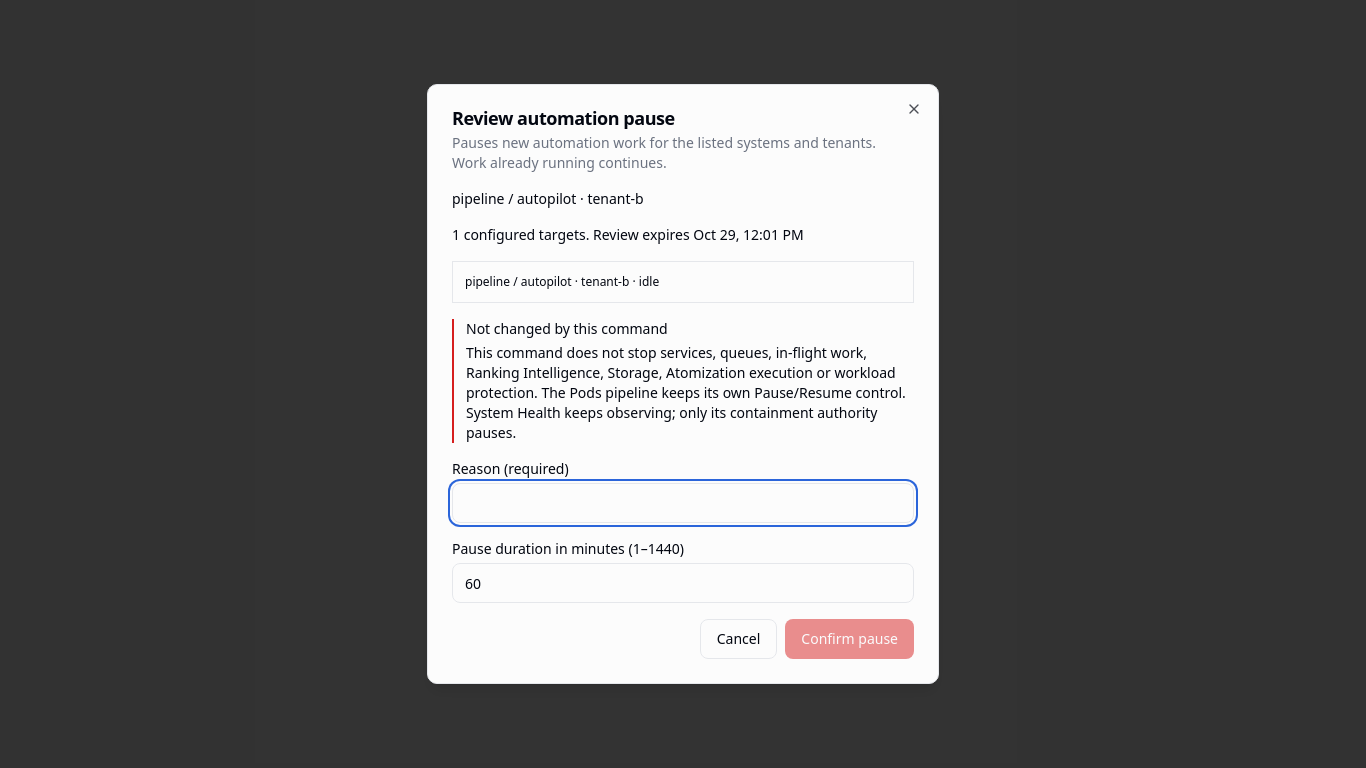
requires explicit scope review, reason and valid TTL before pause
The width and height of the screenshot is (1366, 768).
Later steps or results of the test are not shown.
Check: the dialog shows "tenant-b", box [581, 273, 629, 290]
Check: the dialog shows "This command does not stop services, queues, in-flight work", box [466, 343, 906, 442]
Type "Deploy" into the field named "Pause reason".
click(683, 503); type("Deploy")  # box [452, 483, 914, 523]
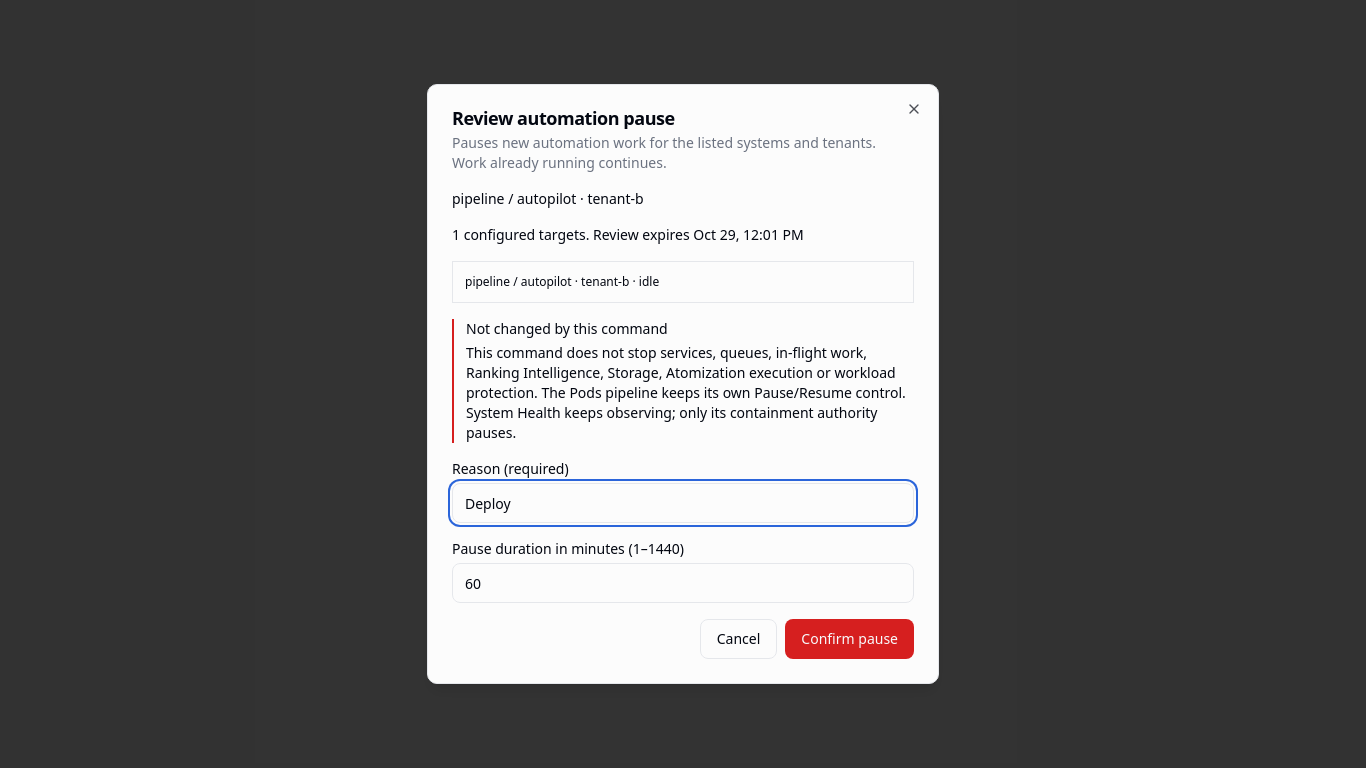
Check: the button "Confirm pause" is enabled, box [785, 619, 914, 659]
Replace the text in the number field labelled "Pause duration in minutes" with "0" at coordinates (683, 583), box [452, 563, 914, 603]
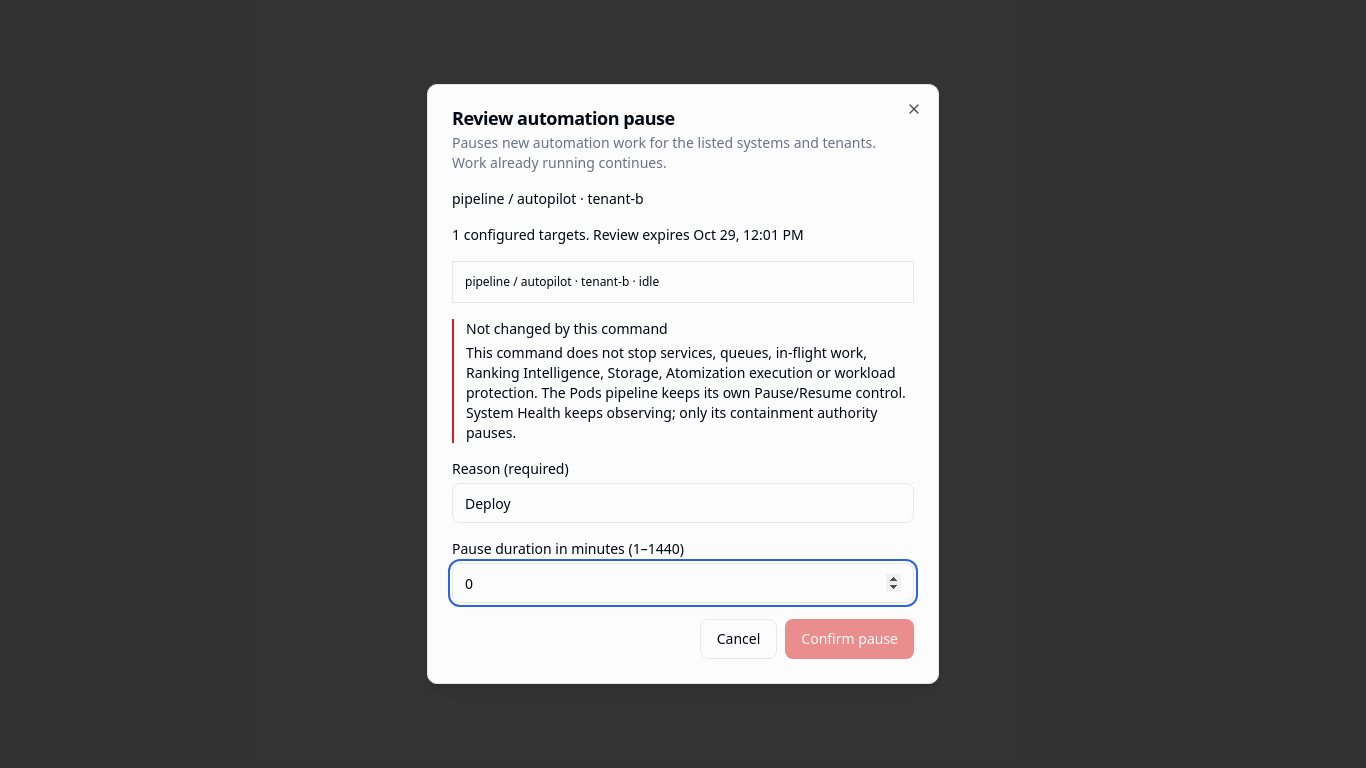
Check: the button "Confirm pause" is disabled, box [785, 619, 914, 659]
Replace the text in the number field labelled "Pause duration in minutes" with "60" at coordinates (683, 583), box [452, 563, 914, 603]
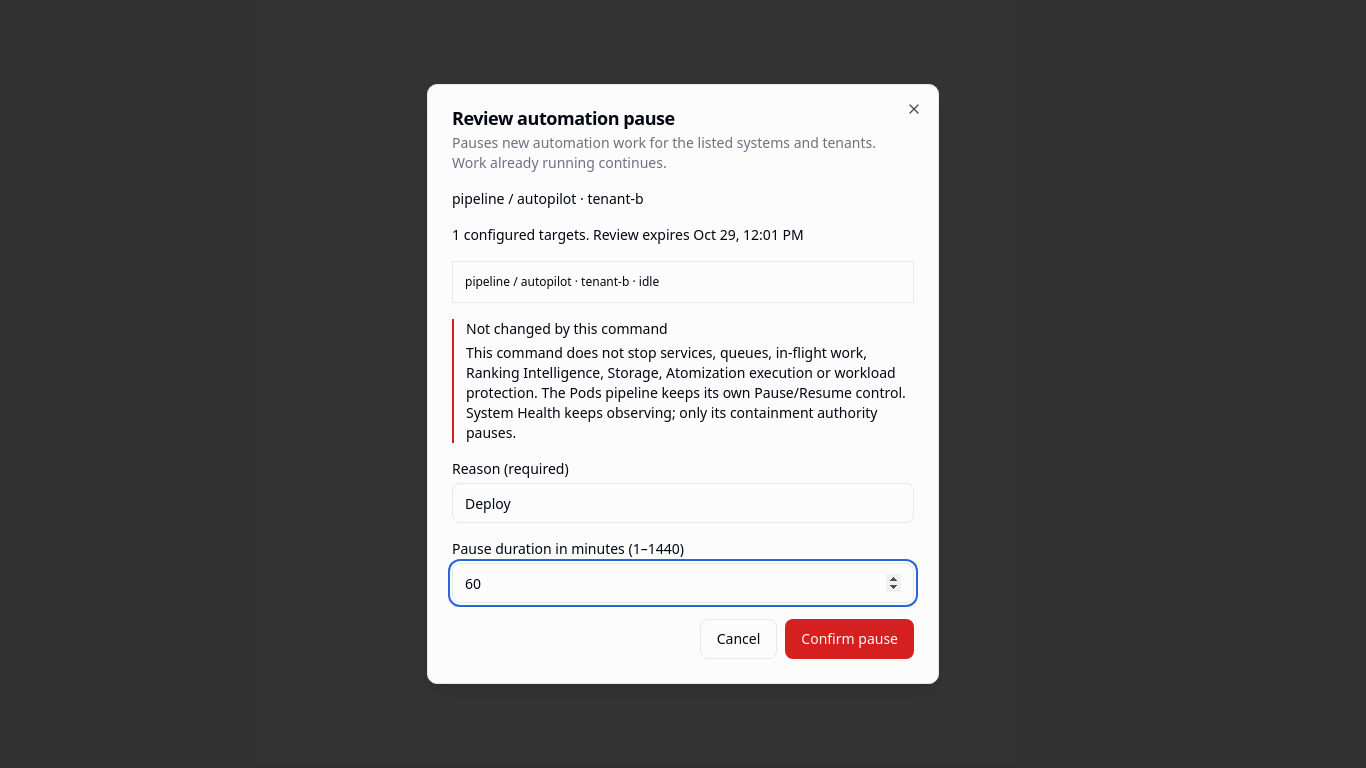
Check: the button "Confirm pause" is enabled
Click the button "Confirm pause".
click(850, 639)  # box [785, 619, 914, 659]
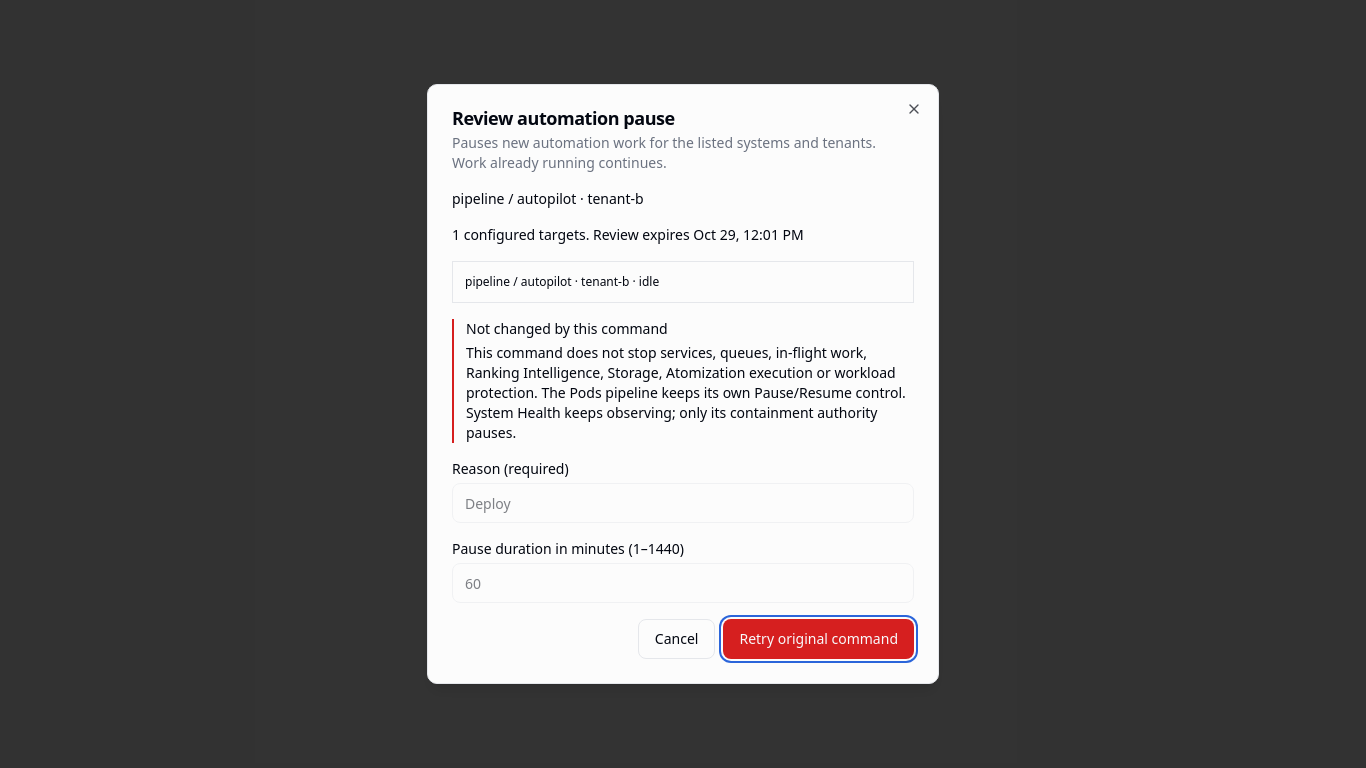
Check: the field named "Pause reason" is disabled, box [452, 483, 914, 523]
Check: the number field labelled "Pause duration in minutes" is disabled, box [452, 563, 914, 603]
